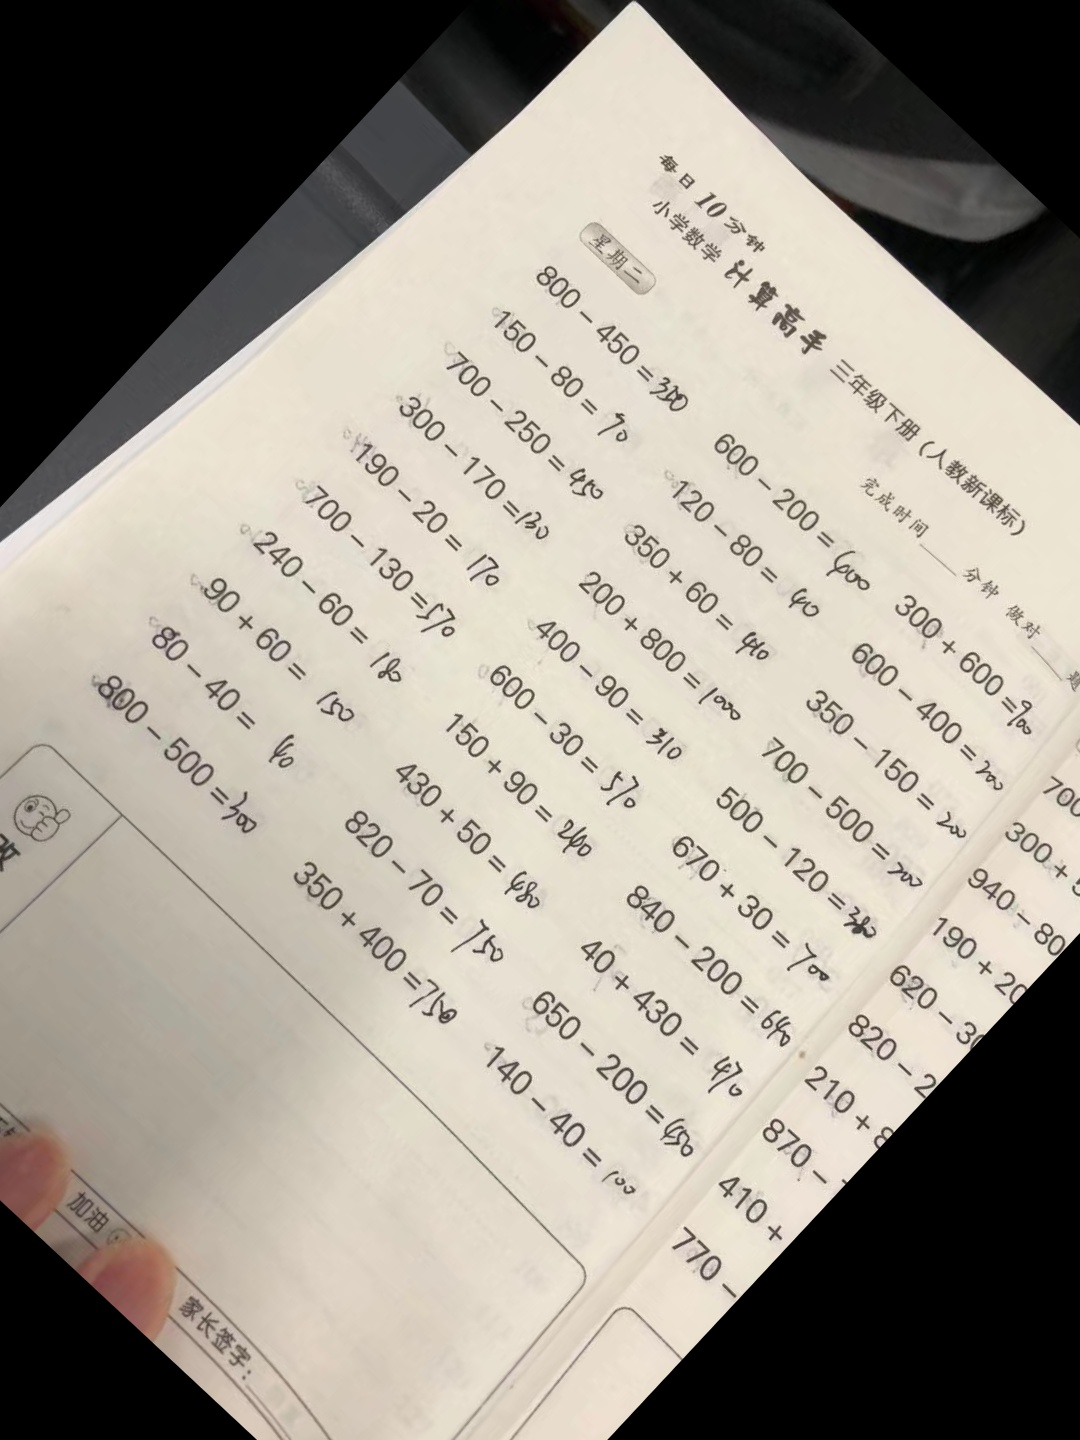equation: (281, 865, 469, 1042), (524, 993, 713, 1169), (83, 672, 268, 845), (286, 481, 470, 653), (574, 939, 754, 1109), (477, 1053, 657, 1222), (707, 434, 887, 602), (577, 575, 754, 741), (703, 791, 880, 957), (526, 257, 701, 422), (798, 693, 973, 857), (625, 885, 800, 1049), (668, 834, 841, 997), (441, 349, 611, 508), (383, 762, 553, 921), (760, 746, 929, 904), (335, 815, 503, 973), (848, 646, 1016, 804), (347, 442, 513, 597), (248, 532, 413, 687), (487, 668, 652, 823), (440, 716, 605, 871), (393, 398, 558, 552), (888, 601, 1053, 755), (202, 581, 364, 733), (618, 523, 779, 674), (665, 481, 826, 631), (151, 629, 310, 777), (536, 623, 694, 771), (486, 309, 641, 454)
